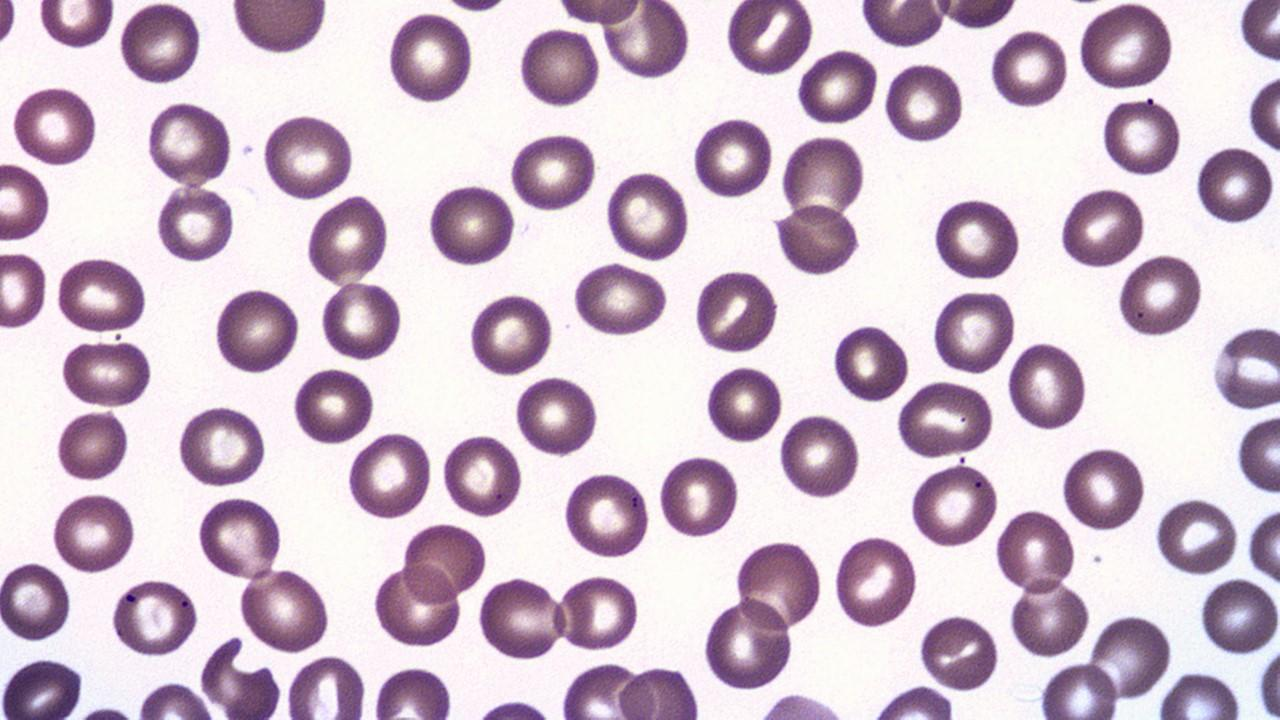RBC: (701, 594, 794, 694), (1076, 0, 1176, 93), (384, 8, 476, 108), (237, 562, 334, 656), (259, 110, 357, 203), (734, 536, 824, 636), (778, 130, 867, 231), (831, 531, 919, 632), (211, 284, 302, 380), (424, 177, 517, 270), (369, 560, 464, 651), (561, 467, 652, 561), (174, 401, 270, 490), (908, 459, 1000, 551), (930, 193, 1024, 283), (344, 428, 433, 523), (604, 167, 691, 264), (304, 191, 391, 288), (143, 97, 235, 188), (1115, 250, 1205, 342), (1086, 609, 1174, 703), (776, 409, 863, 504), (476, 573, 566, 664), (894, 378, 995, 459), (506, 128, 600, 215), (465, 289, 555, 379), (571, 259, 671, 340), (9, 80, 99, 170), (930, 286, 1018, 378), (1059, 444, 1147, 536), (1056, 183, 1148, 271), (1006, 336, 1088, 434), (692, 267, 782, 356), (512, 370, 601, 460), (194, 493, 285, 581), (116, 0, 204, 90), (49, 488, 139, 576), (656, 450, 742, 542), (993, 504, 1077, 598), (109, 575, 201, 660), (440, 430, 524, 521), (53, 254, 148, 334), (516, 23, 602, 111), (690, 112, 774, 202), (600, 0, 692, 82), (319, 276, 404, 364), (882, 58, 966, 146), (1099, 93, 1183, 180), (1194, 141, 1276, 230), (1152, 494, 1240, 576), (917, 610, 1002, 694), (795, 44, 880, 128), (988, 25, 1070, 112), (56, 337, 155, 409), (556, 570, 640, 654), (1006, 576, 1090, 660), (402, 520, 488, 602), (290, 364, 376, 446), (1197, 572, 1279, 658), (724, 0, 814, 78), (153, 182, 237, 265), (831, 320, 911, 405), (704, 362, 784, 446), (0, 556, 73, 645), (772, 204, 862, 276), (1210, 322, 1280, 412), (52, 406, 131, 484), (229, 0, 330, 59), (285, 652, 368, 720), (0, 653, 86, 717), (1037, 658, 1121, 720), (371, 662, 456, 720), (614, 662, 700, 718), (0, 159, 53, 244), (1154, 668, 1244, 718), (860, 0, 946, 50), (35, 1, 117, 52), (0, 248, 49, 331), (1233, 412, 1279, 496), (133, 678, 218, 719), (870, 682, 957, 720), (931, 0, 1024, 30), (1235, 3, 1279, 66), (1247, 69, 1279, 155), (1246, 507, 1280, 584), (553, 0, 646, 26), (1254, 638, 1280, 720)
